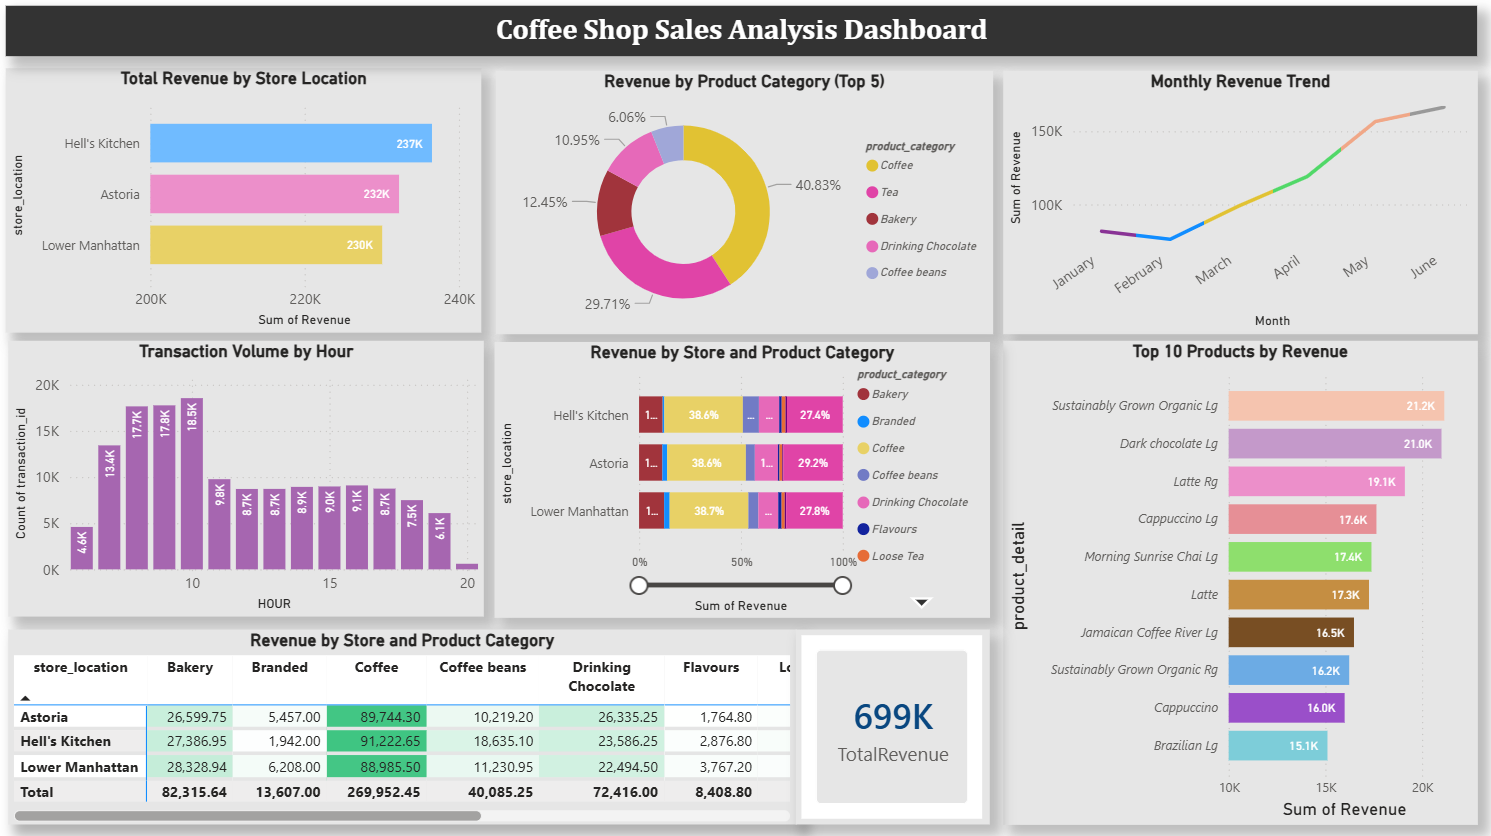

What the dashboard file says about the page in this screenshot:
{"tool":"powerbi","page":{"name":"Main","canvas":[1280,720],"ordinal":0},"visuals":[{"type":"clusteredBarChart","title":"Total Revenue by Store Location","fields":{"Category":["Transactions.store_location"],"Y":["Sum(Transactions.Revenue)"]},"box":[24.6,72.8,400.3,222.7],"z":0},{"type":"textbox","box":[24.6,20.5,1237.9,42.4],"z":1000},{"type":"donutChart","title":"Revenue by Product Category (Top 5)","fields":{"Category":["Transactions.product_category"],"Y":["Sum(Transactions.Revenue)"]},"box":[435.9,74.2,418.1,221.4],"z":2000},{"type":"lineChart","title":"Monthly Revenue Trend","fields":{"Category":["Transactions.transaction_date.Variation.Date Hierarchy.Month"],"Y":["Sum(Transactions.Revenue)"]},"box":[863.5,74.2,399,221.4],"z":3000},{"type":"clusteredColumnChart","title":"Transaction Volume by Hour","fields":{"Category":["Transactions.HOUR"],"Y":["CountNonNull(Transactions.transaction_id)"]},"box":[26,302,400.3,232.3],"z":4000},{"type":"clusteredBarChart","title":"Top 10 Products by Revenue","fields":{"Category":["Transactions.product_detail"],"Y":["Sum(Transactions.Revenue)"]},"box":[863.5,302,399,407.2],"z":5000},{"type":"hundredPercentStackedBarChart","title":"Revenue by Store and Product Category","fields":{"Category":["Transactions.store_location"],"Y":["Sum(Transactions.Revenue)"],"Series":["Transactions.product_category"]},"box":[435,302.5,417.1,232],"z":6000},{"type":"pivotTable","title":" Revenue by Store and Product Category","fields":{"Rows":["Transactions.store_location"],"Columns":["Transactions.product_category"],"Values":["Sum(Transactions.Revenue)"]},"box":[26.2,544.2,662.9,164.4],"z":7000},{"type":"cardVisual","title":"Total Revenue","fields":{"Data":["Transactions.TotalRevenue"]},"box":[689.2,544.2,163,164.4],"z":8000}]}

Visuals, with their boxes in screenshot pixels (x1, y1, x2, y2), scaled from the page's 1280x720 canvas onto the 1491x836 screenshot:
"Total Revenue by Store Location" clusteredBarChart: <region>29, 85, 495, 343</region>
textbox: <region>29, 24, 1471, 73</region>
"Revenue by Product Category (Top 5)" donutChart: <region>508, 86, 995, 343</region>
"Monthly Revenue Trend" lineChart: <region>1006, 86, 1471, 343</region>
"Transaction Volume by Hour" clusteredColumnChart: <region>30, 351, 497, 620</region>
"Top 10 Products by Revenue" clusteredBarChart: <region>1006, 351, 1471, 823</region>
"Revenue by Store and Product Category" hundredPercentStackedBarChart: <region>507, 351, 993, 621</region>
" Revenue by Store and Product Category" pivotTable: <region>31, 632, 803, 823</region>
"Total Revenue" cardVisual: <region>803, 632, 993, 823</region>
